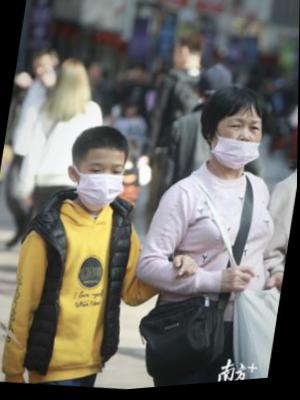OK: (73, 156, 128, 218)
WRONG: (206, 111, 268, 180)
